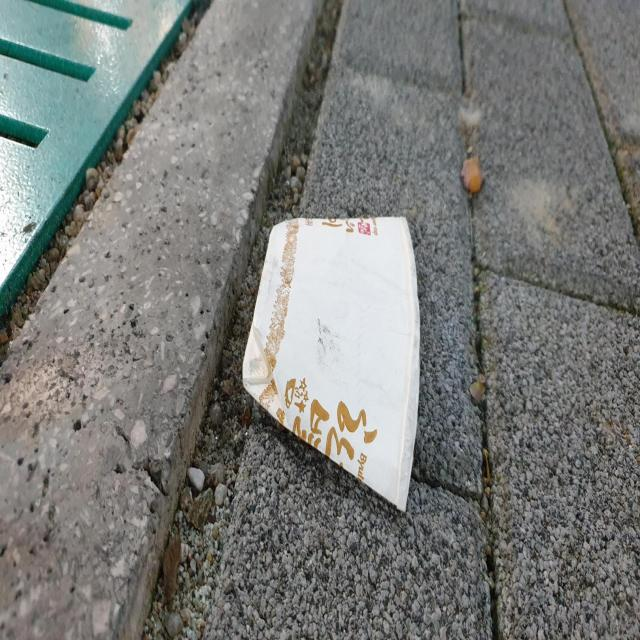paperpack: (242, 216, 420, 511)
